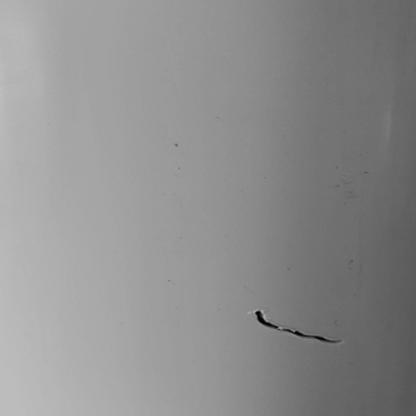fengxi: (253, 311, 342, 347)
